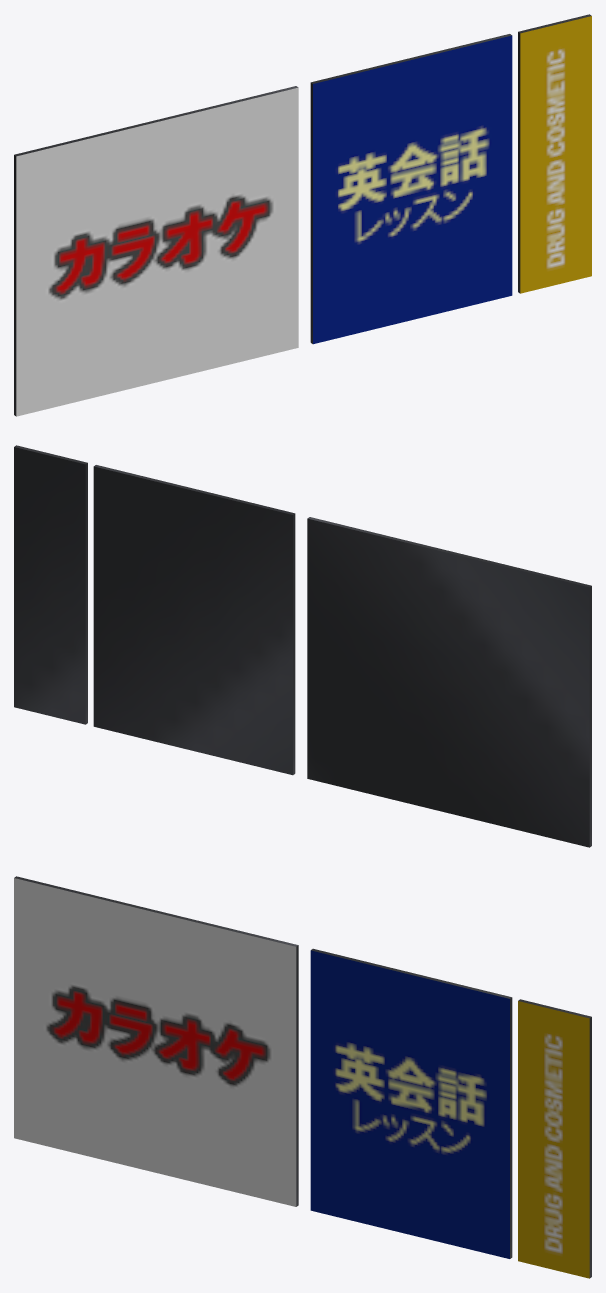
File: Prop_Signboard_Upper_A.fbx
3 views of the same model, one above another, from view 1: azimuth 30°, elevation 25°; view 2: azimuth 150°, elevation 25°; view 3: azimuth 330°, elevation 25° (orthographic).
Parts seen in each view (by area): view 1: Prop_Signboard_Upper_A; view 2: Prop_Signboard_Upper_A; view 3: Prop_Signboard_Upper_A.
Part boxes in pixels (x1=…): Prop_Signboard_Upper_A: x1=14, y1=14, x2=591, y2=416; Prop_Signboard_Upper_A: x1=14, y1=445, x2=591, y2=847; Prop_Signboard_Upper_A: x1=14, y1=876, x2=591, y2=1278.
Size of the model in its own units: 1444 by 624 by 10.
